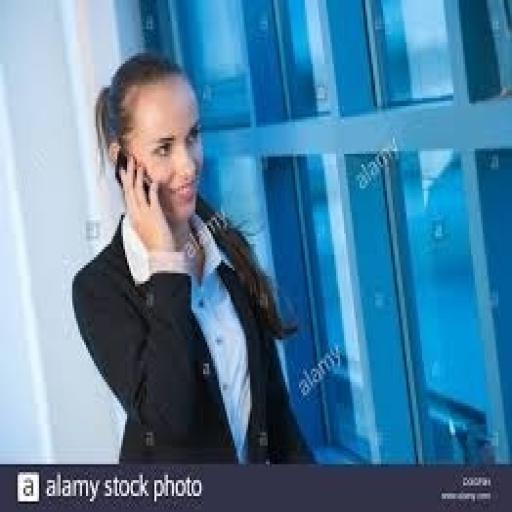calling: (68, 48, 316, 464)
